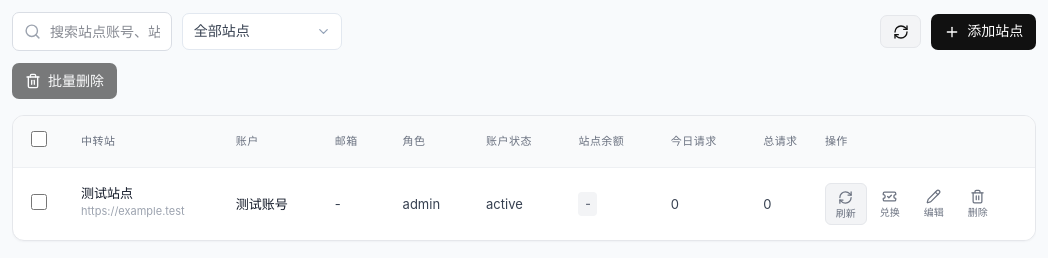
AccountsPage selection › selects the visible account from the row checkbox and header checkbox
Check: the button "批量删除" is disabled, box [12,63,117,99]
What coordinates should you click on to do the following:
click the checkbox named "选择站点账号 测试站点"
I would click on:
 (39, 202)
Its box is [31,194,47,210].
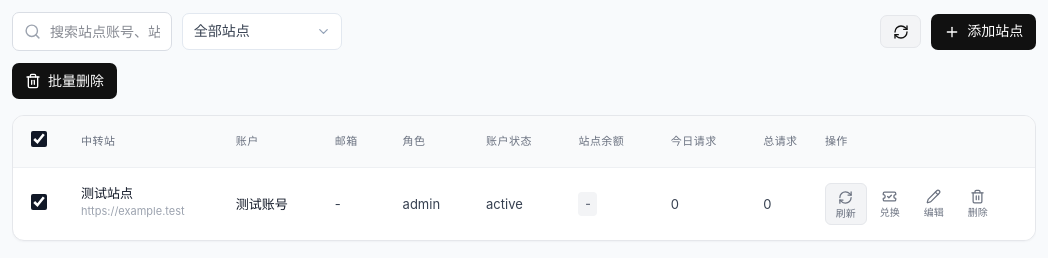
Check: the checkbox named "全选站点账号" is checked, box [31,131,47,147]
Check: the button "批量删除" is enabled, box [12,63,117,99]
